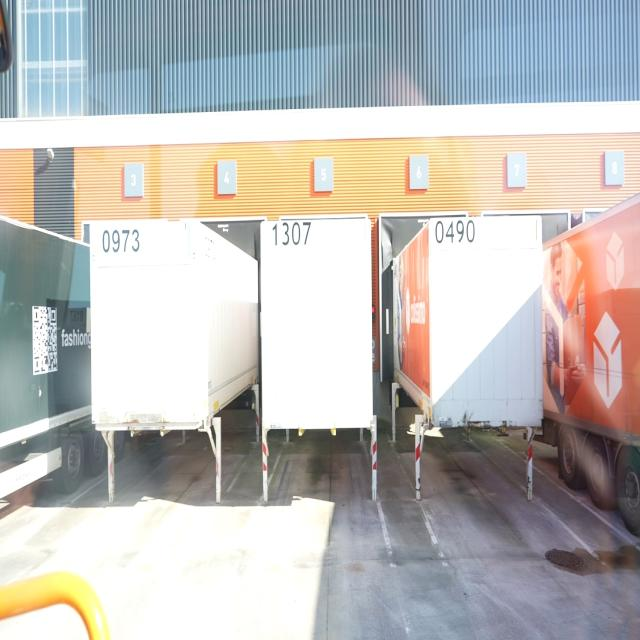Code: (100, 224, 141, 257), (433, 219, 478, 248), (269, 221, 313, 250)
